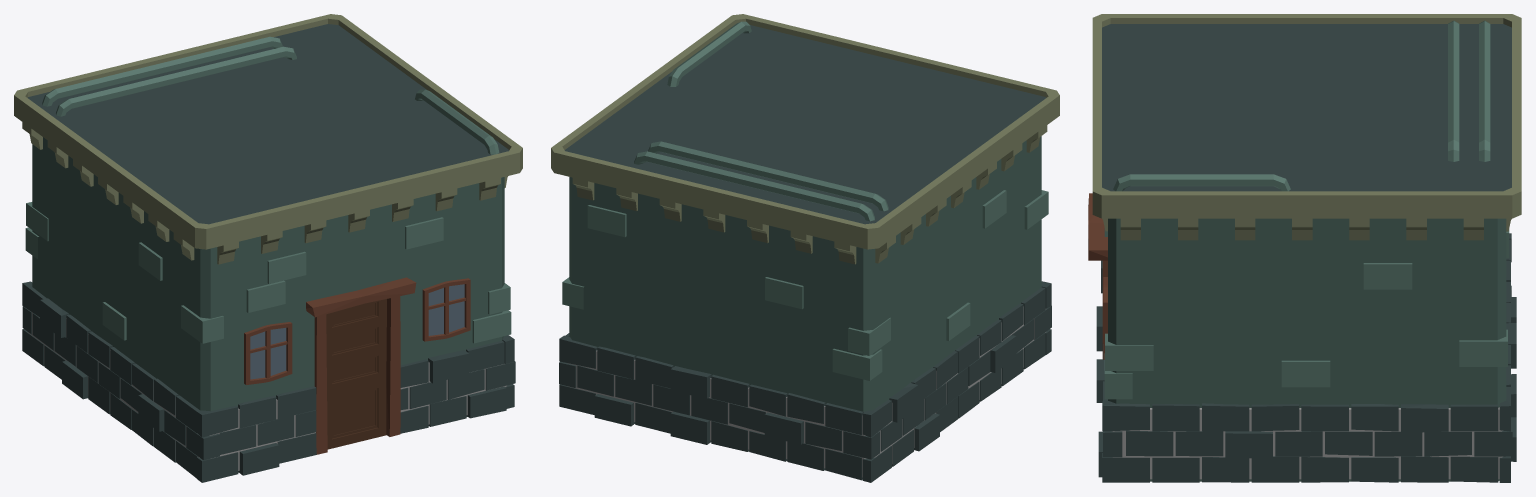
Rendered from 1Story.glb.
3 views of the same model, side by side, from view 1: azimuth 30°, elevation 25°; view 2: azimuth 150°, elevation 25°; view 3: azimuth 270°, elevation 25° (orthographic). The views are drawn at different scales.
Visible parts, largest first — view 1: 1Story_Mat; view 2: 1Story_Mat; view 3: 1Story_Mat.
Part boxes in pixels (x1,y1,x2,y2): 1Story_Mat: (14, 14, 522, 482); 1Story_Mat: (551, 14, 1059, 482); 1Story_Mat: (1088, 14, 1521, 482).
Bounding box in the file's own units: 2.15 × 1.67 × 2.17.
